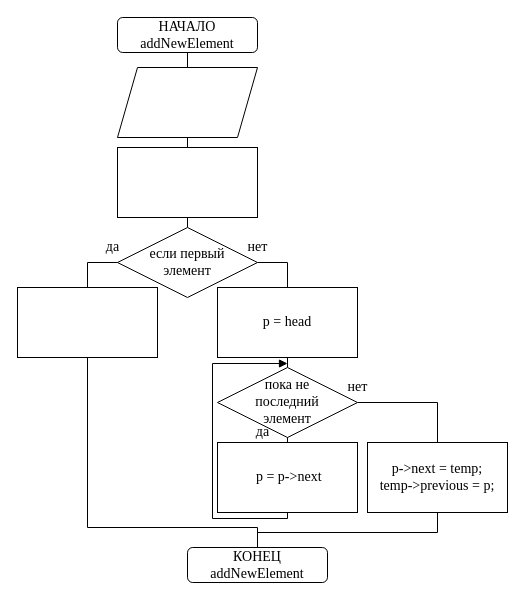
Image size: 525x600. Some labels were removed from this diagram. The shapes that lost their labels are listed below. From the top down, each one's centre as x and y in pixels, then its label:
point 187,102: №магазина, секции, чека; имя продукта, артикул товара, цена, кол-во товара, дата
point 187,182: выделение памяти; temp->data = info; temp->next = temp-> previous = NULL;
point 87,322: голова = temp
